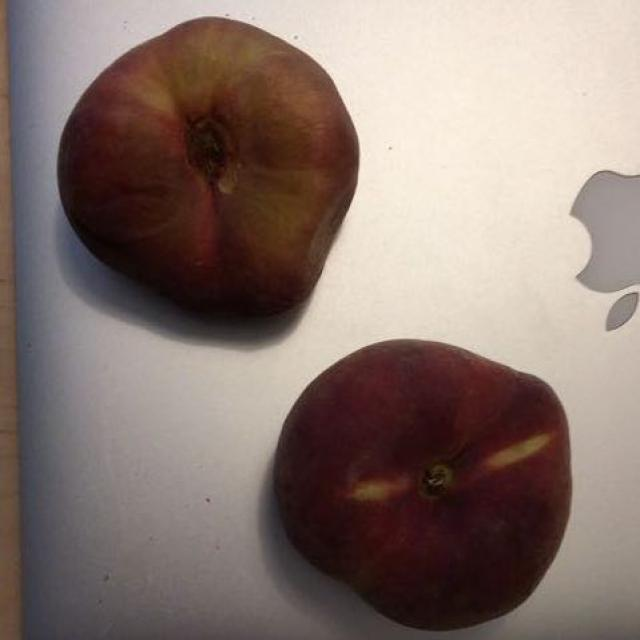peach: (41, 21, 362, 347), (279, 341, 580, 622)
